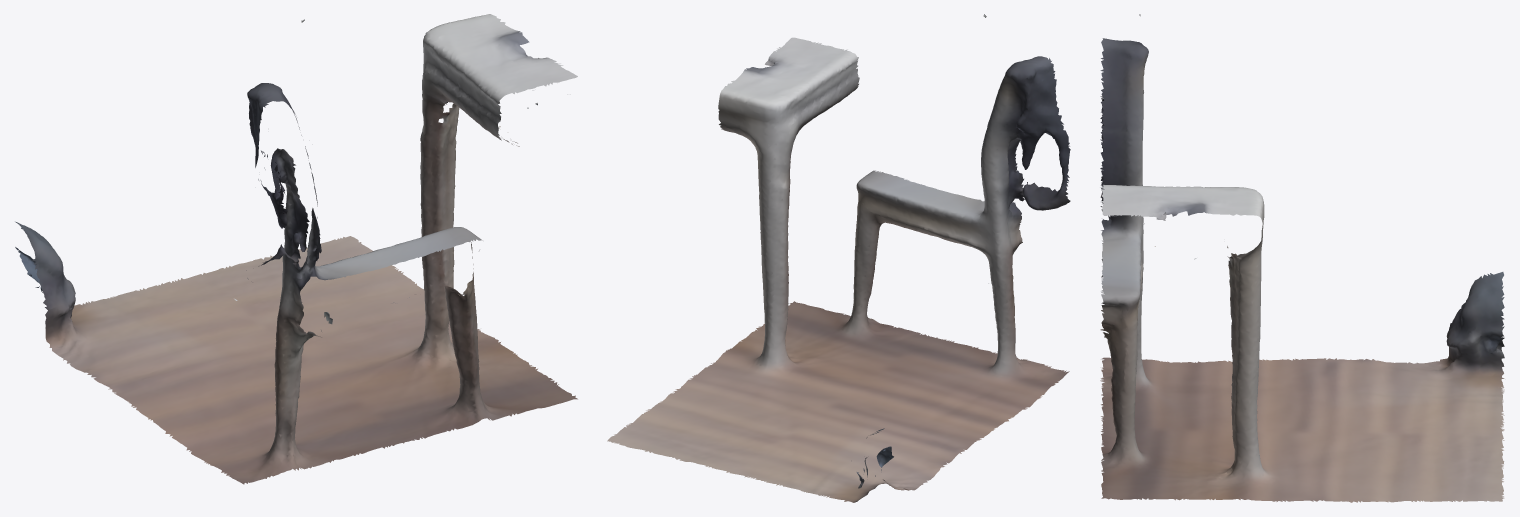
Rendered from apartment-full-98-11b0637a330f.glb.
The picture shows the model from 3 angles, left to right: view 1: azimuth 30°, elevation 25°; view 2: azimuth 150°, elevation 25°; view 3: azimuth 270°, elevation 25°; orthographic projection. The views are drawn at different scales.
Bounding box in the file's own units: 0.86 × 1.1 × 1.01.
